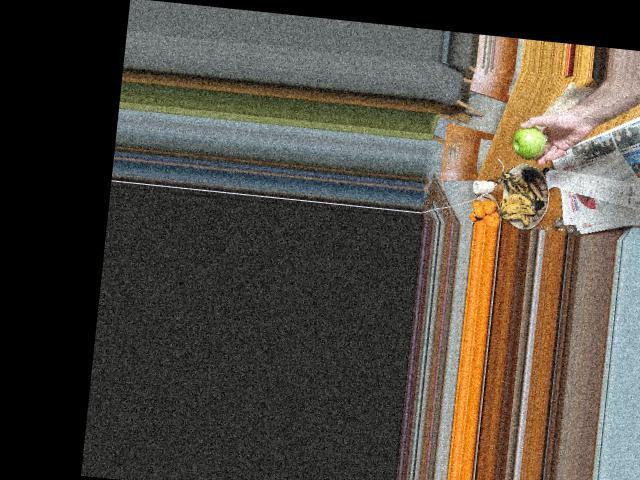apple: (512, 124, 546, 157)
